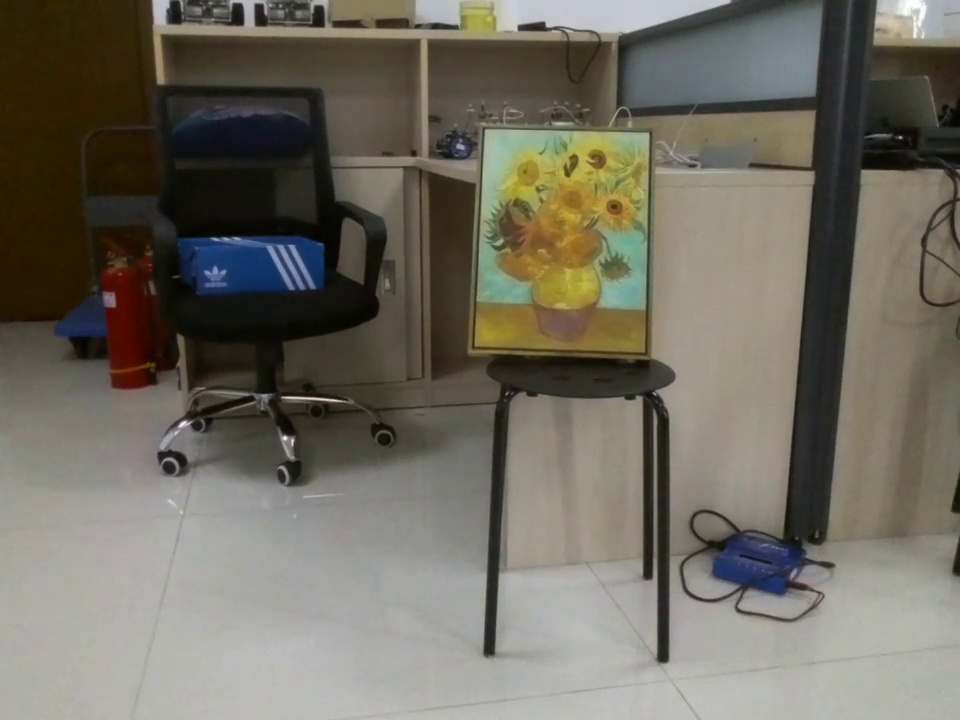painting: (465, 128, 660, 361)
